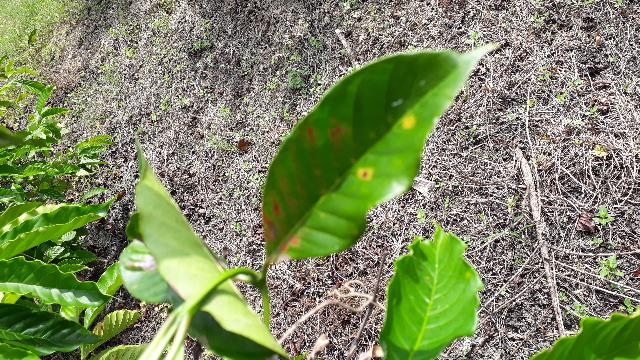rust_level_2: (262, 44, 496, 258)
